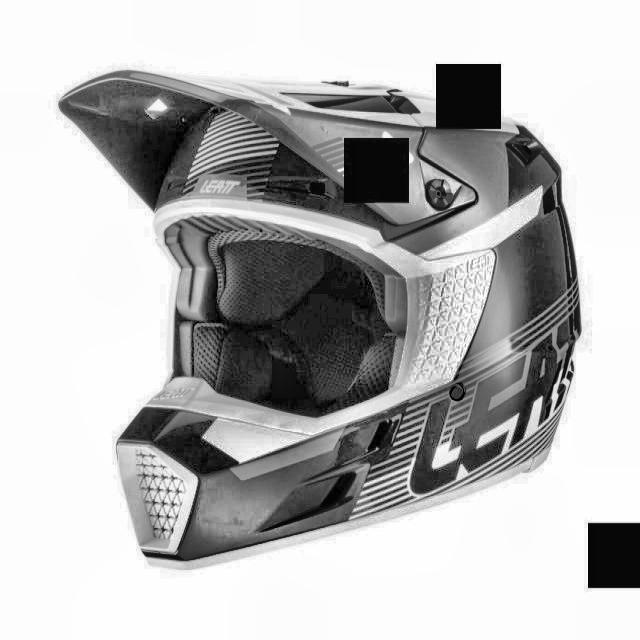Helmet: (43, 50, 593, 590)
